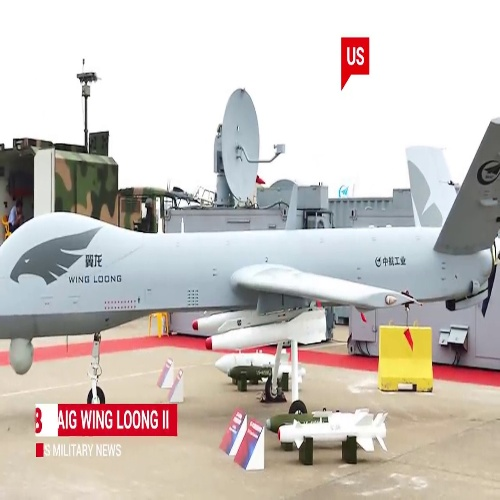uav: (1, 122, 498, 401)
